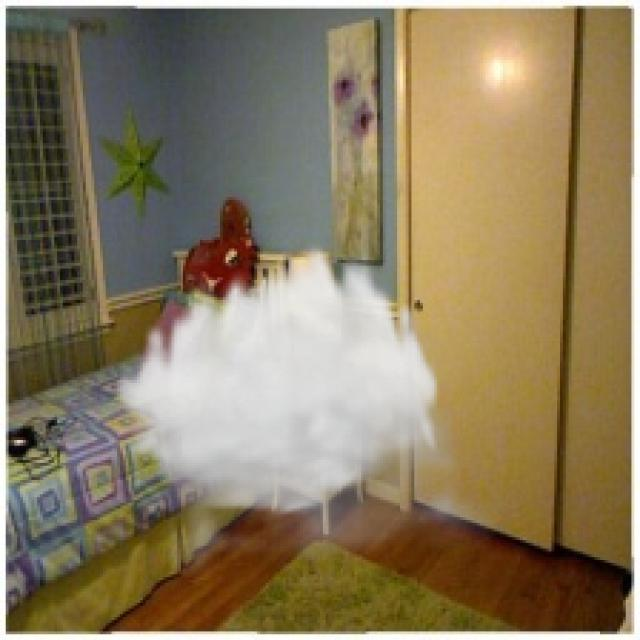smoke: (111, 237, 512, 583)
